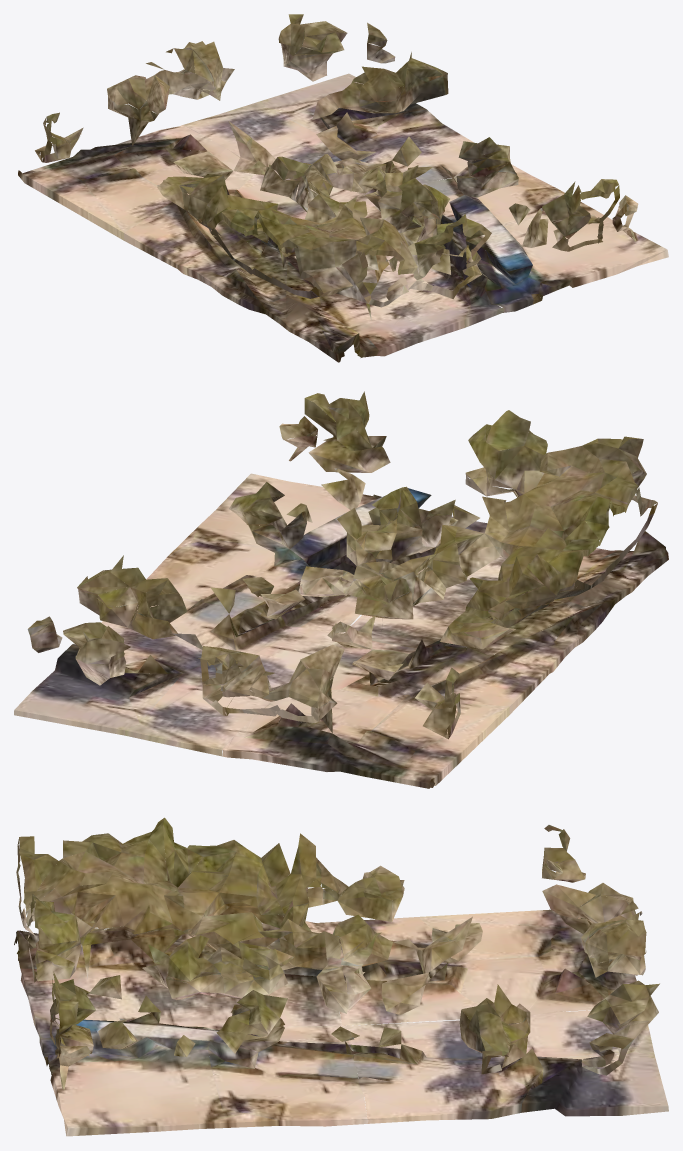
The picture shows the model from 3 angles, top to bottom: view 1: azimuth 30°, elevation 25°; view 2: azimuth 150°, elevation 25°; view 3: azimuth 270°, elevation 25°; orthographic projection. The views are drawn at different scales.
Visible parts, largest first — view 1: Mesh_0; view 2: Mesh_0; view 3: Mesh_0.
Part boxes in pixels (x1=…): Mesh_0: x1=18, y1=14, x2=668, y2=362; Mesh_0: x1=14, y1=391, x2=668, y2=788; Mesh_0: x1=14, y1=817, x2=668, y2=1136.
Size of the model in its own units: 67.21 by 18.3 by 82.42.
2 materials, 2 textured.
